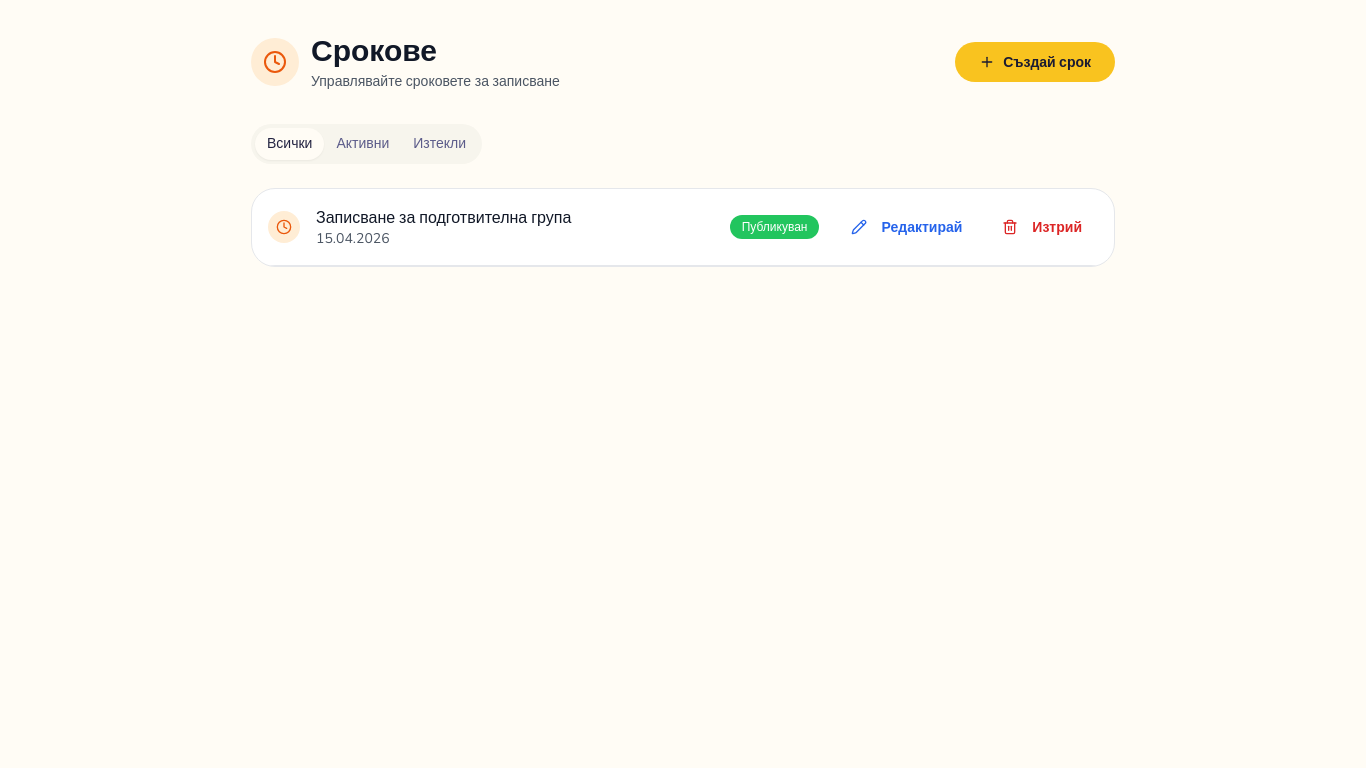
Scenario: DeadlinesList › opens delete dialog on delete button click
Click the button with aria-label "Изтрий: Записване за подготвителна група".
click(1042, 227)  # box [986,209,1098,245]
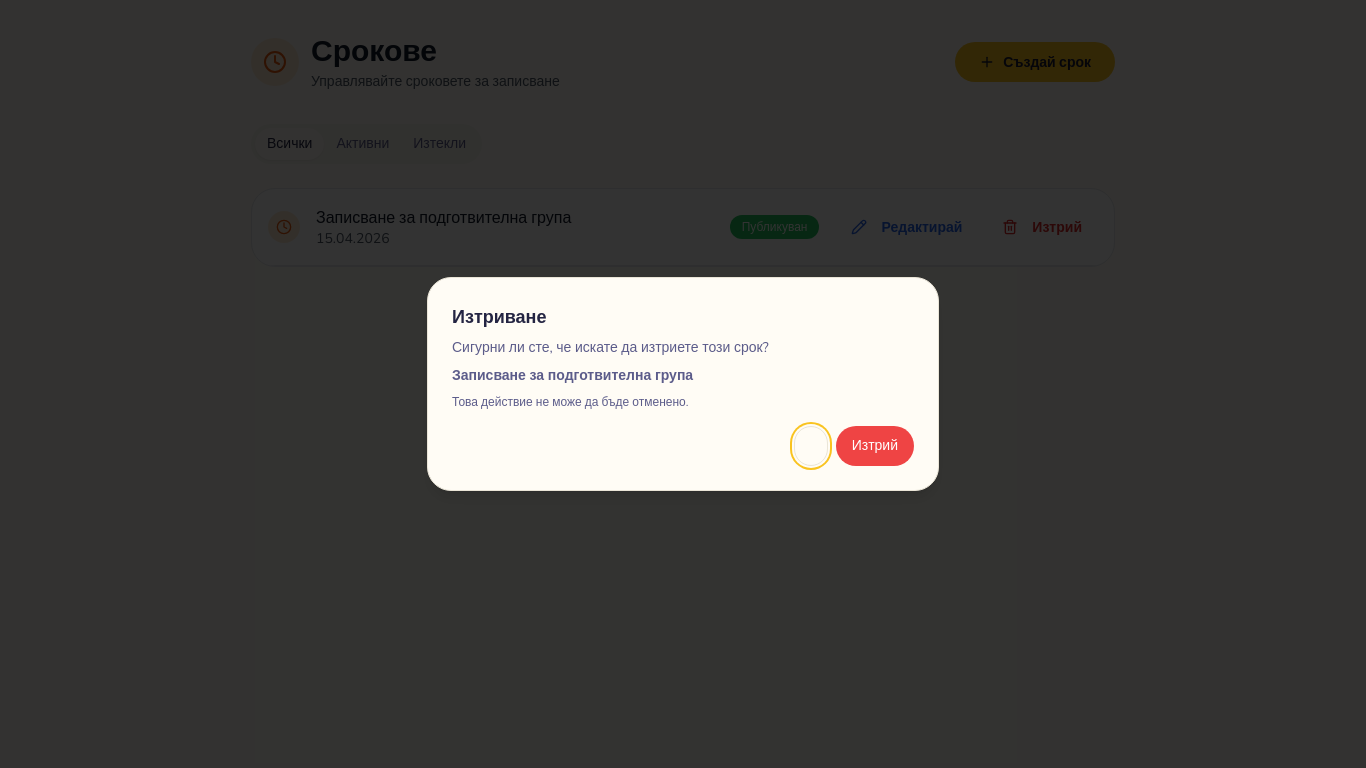
Now the text "Сигурни ли сте" is shown, box [452,338,769,357]
